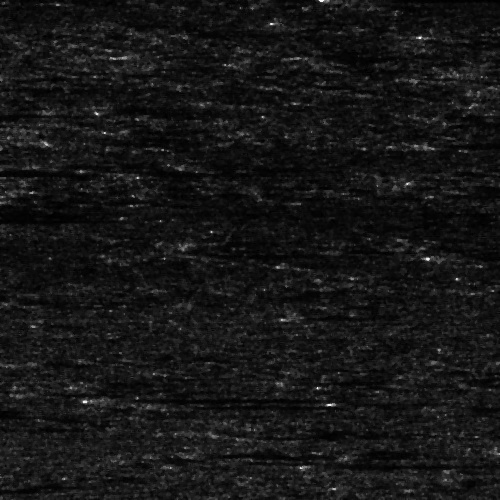object: (398, 23, 461, 42), (393, 251, 466, 260), (151, 0, 286, 4), (83, 396, 136, 401)
shadow: (0, 211, 111, 226), (109, 396, 399, 401), (430, 23, 500, 42), (218, 0, 500, 4), (430, 251, 500, 260), (0, 162, 35, 177), (0, 111, 58, 116)
